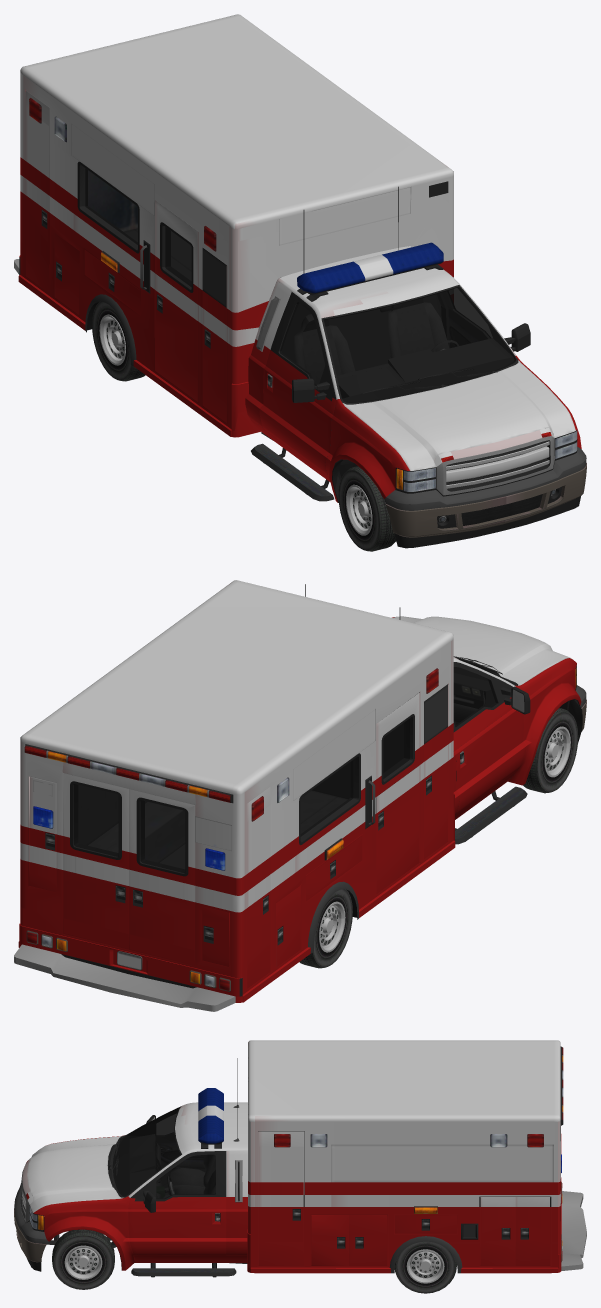
File: Ambulance_1.FBX
The picture shows the model from 3 angles, top to bottom: view 1: azimuth 30°, elevation 25°; view 2: azimuth 150°, elevation 25°; view 3: azimuth 270°, elevation 25°; orthographic projection. The views are drawn at different scales.
Visible parts, largest first — view 1: Body, Door_R, Wheel_FR, Door_L, Wheel_BR, Door_BR; view 2: Body, Door_BL, Door_BR, Door_R, Wheel_FR, Wheel_BR; view 3: Body, Door_L, Wheel_FL, Wheel_BL, Door_R.
Boxes of the visible parts, bbox=[...] form: Body: bbox=[14, 14, 586, 548]; Door_R: bbox=[259, 292, 336, 475]; Wheel_FR: bbox=[338, 466, 395, 551]; Door_L: bbox=[442, 287, 530, 356]; Wheel_BR: bbox=[92, 301, 145, 381]; Door_BR: bbox=[88, 170, 133, 231]; Body: bbox=[14, 580, 586, 1011]; Door_BL: bbox=[63, 773, 129, 949]; Door_BR: bbox=[129, 789, 195, 965]; Door_R: bbox=[453, 662, 530, 814]; Wheel_FR: bbox=[523, 708, 578, 793]; Wheel_BR: bbox=[299, 889, 352, 968]; Body: bbox=[14, 1040, 586, 1277]; Door_L: bbox=[128, 1151, 226, 1255]; Wheel_FL: bbox=[52, 1229, 114, 1289]; Wheel_BL: bbox=[394, 1241, 456, 1293]; Door_R: bbox=[129, 1110, 205, 1187].
Size of the model in its own units: 56.59 by 56.81 by 163.
